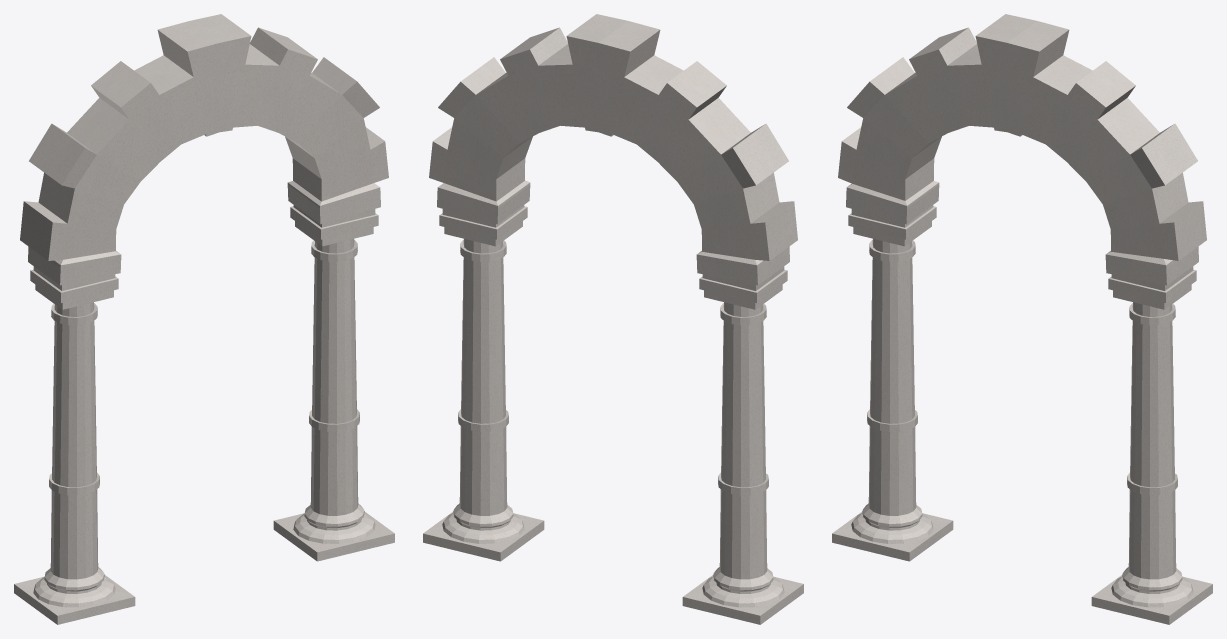
File: stone_archway.fbx
3 views of the same model, side by side, from view 1: azimuth 30°, elevation 25°; view 2: azimuth 150°, elevation 25°; view 3: azimuth 330°, elevation 25° (orthographic).
Visible parts, largest first — view 1: Stone Archway; view 2: Stone Archway; view 3: Stone Archway.
Part boxes in pixels (x1,y1,x2,y2): Stone Archway: (14,14,394,624); Stone Archway: (423,14,803,624); Stone Archway: (832,14,1212,624).
Bounding box in the file's own units: 726 × 1091 × 160.
